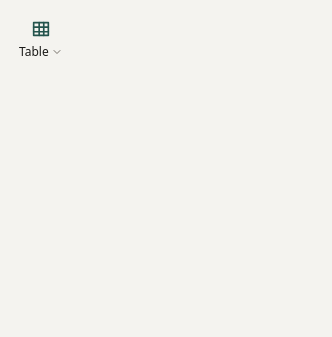
TablePicker grid › is a 10x8 grid with a live size caption
Click the button "Table": [41, 40] box [12,12,70,68]
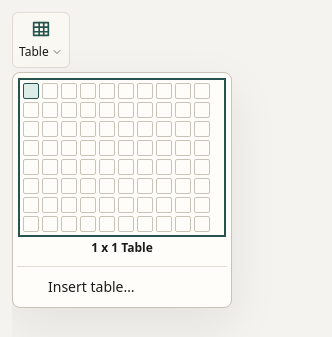
expect the number of cells is 80: met
Hover over the cell named "3 x 2": [69, 110] box [61,102,77,118]
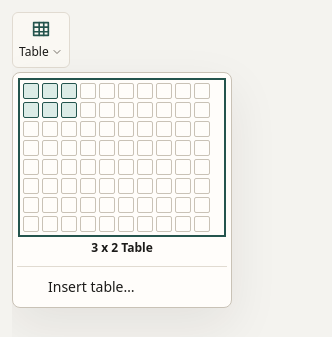
expect the text "3 x 2 Table" is shown: met, box [91,239,153,256]
